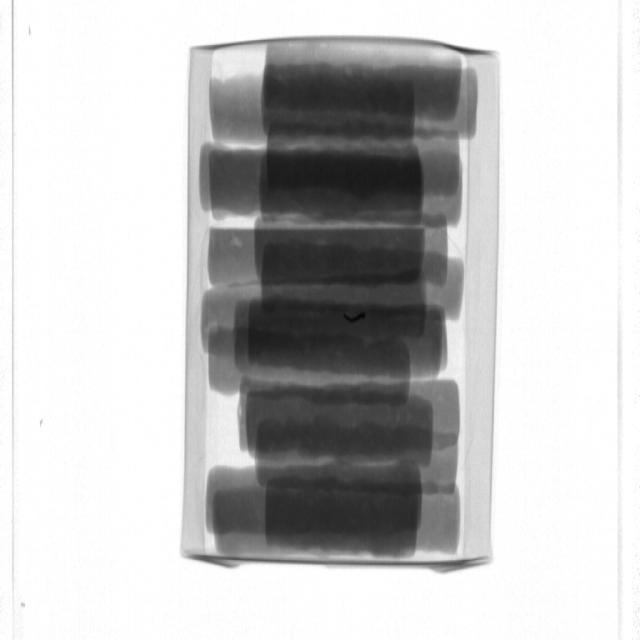ym: (344, 313, 366, 323)
